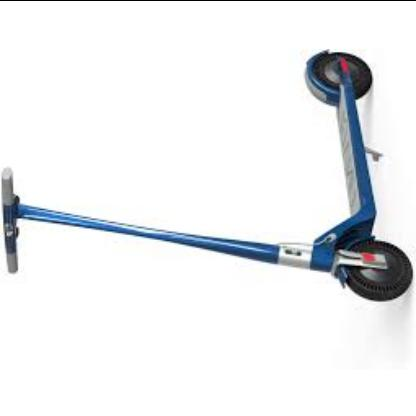bike: (1, 49, 415, 304)
